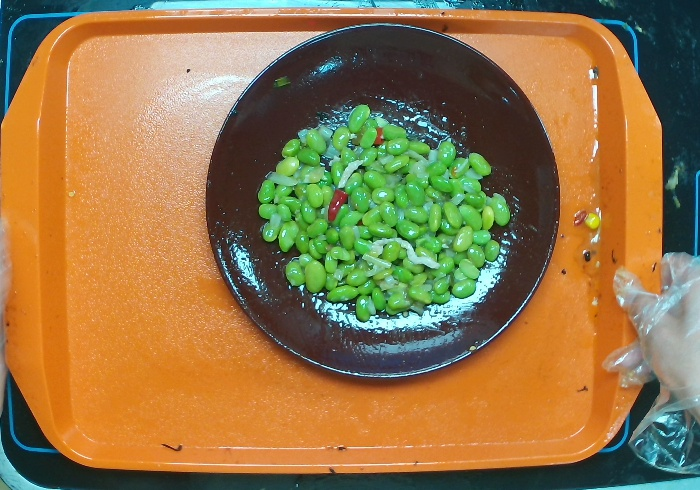HZYJPL-Ka_Fei_Yuan_Pan: (180, 11, 574, 402)
